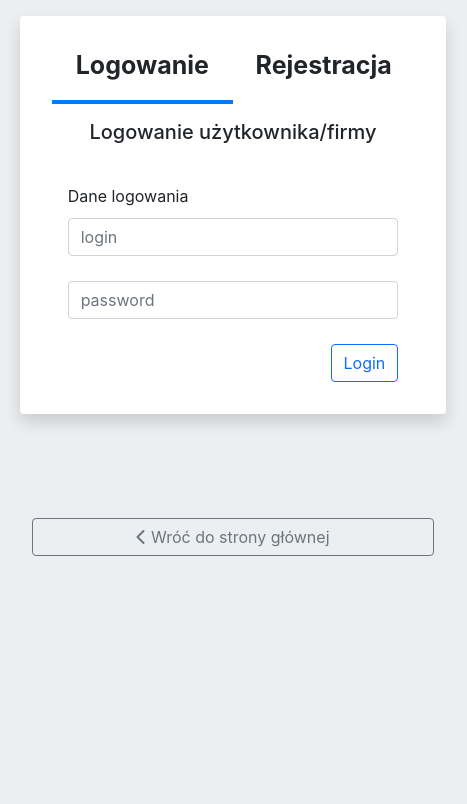
it: AuthenticationPanel component tests › should render SignUp component
Click the text "Rejestracja": coordinates (324, 65) top-left (256, 50), bottom-right (392, 80)
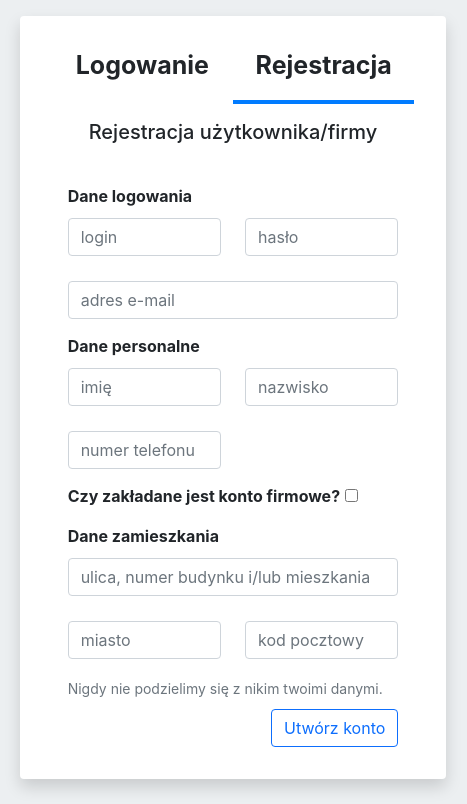
Now the heading "Rejestracja użytkownika/firmy" is shown, box top-left (68, 120), bottom-right (398, 144)
